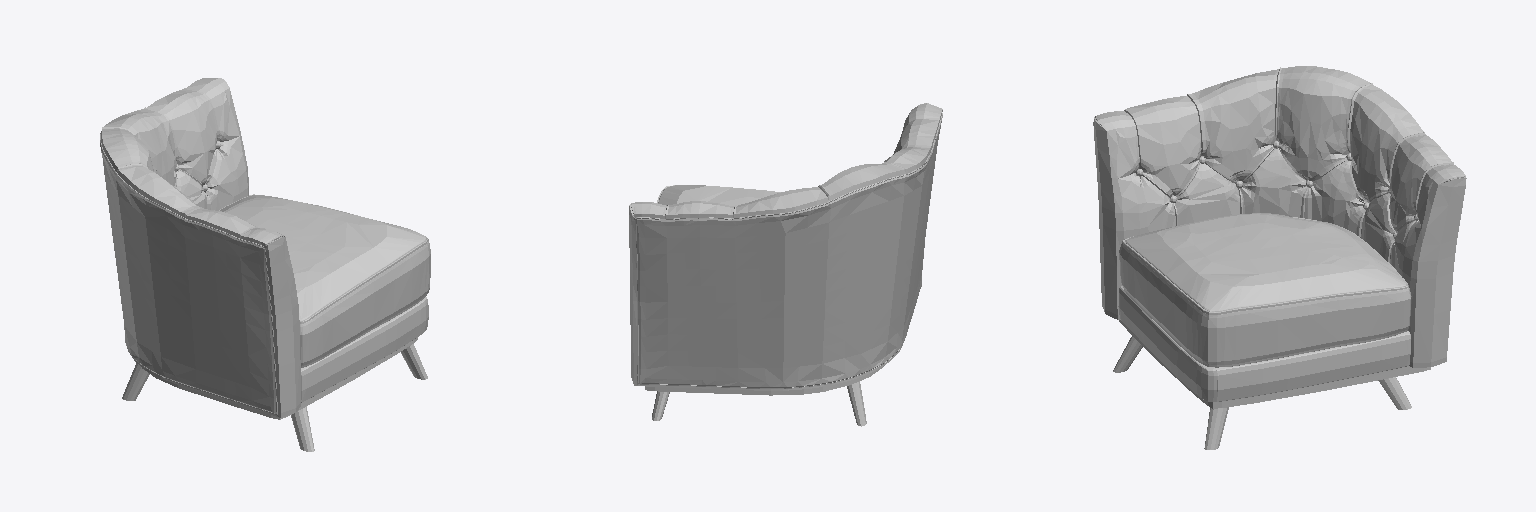
File: bigchair31.obj
The picture shows the model from 3 angles: view 1: azimuth 30°, elevation 25°; view 2: azimuth 150°, elevation 25°; view 3: azimuth 270°, elevation 25°; orthographic projection.
Parts seen in each view (by area): view 1: Chair_back, Chair_foot, Chair_metal; view 2: Chair_back, Chair_foot, Chair_metal; view 3: Chair_back, Chair_foot.
Part boxes in pixels (left/top/right/bottom): Chair_back: left=100, top=78, right=430, bottom=417; Chair_foot: left=122, top=337, right=427, bottom=451; Chair_metal: left=100, top=133, right=277, bottom=414; Chair_back: left=629, top=103, right=942, bottom=390; Chair_foot: left=645, top=365, right=884, bottom=426; Chair_metal: left=635, top=113, right=942, bottom=388; Chair_back: left=1093, top=66, right=1466, bottom=401; Chair_foot: left=1113, top=320, right=1430, bottom=449.
Size of the model in its own units: 1293 by 1136 by 1500.